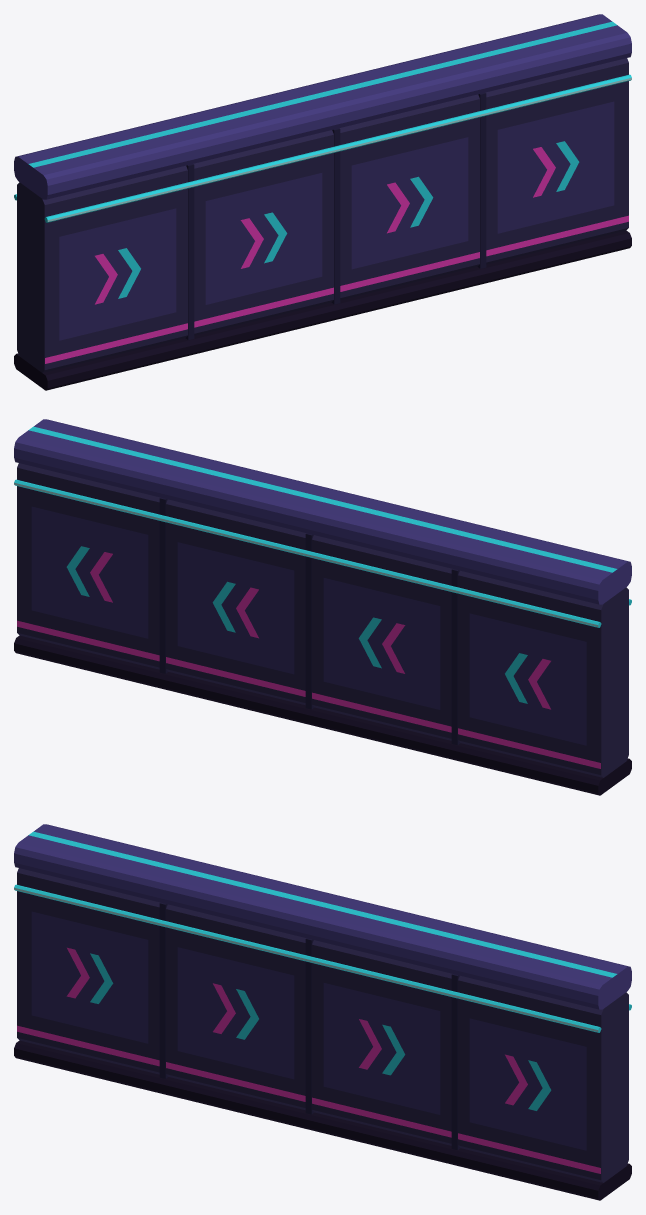
File: neon-plotwall2.glb
3 renders of one model, top to bottom at view 1: azimuth 30°, elevation 25°; view 2: azimuth 150°, elevation 25°; view 3: azimuth 330°, elevation 25°, orthographic.
Visible parts, largest first — view 1: neon-plotwall2; view 2: neon-plotwall2; view 3: neon-plotwall2.
Boxes of the visible parts, x1,y1,x2,y2 form: neon-plotwall2: (14,14,631,390); neon-plotwall2: (14,419,631,795); neon-plotwall2: (14,824,631,1200).
Size of the model in its own units: 4 by 1.4 by 0.401.
